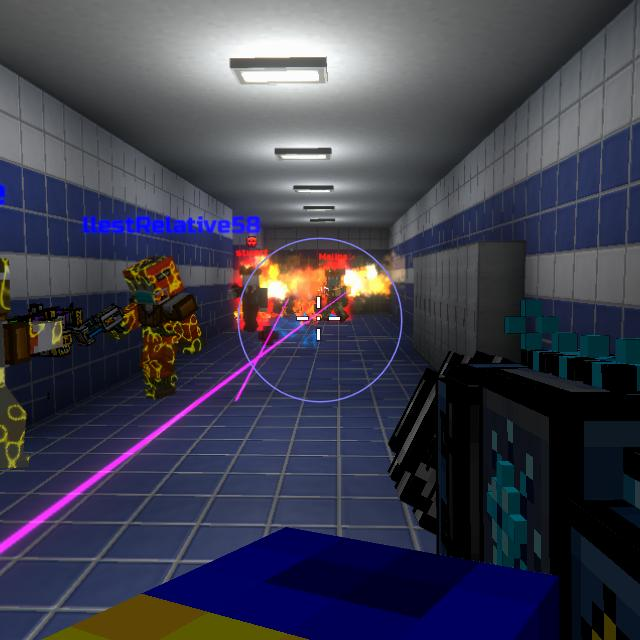Enemy: (232, 264, 269, 332), (324, 269, 351, 323)
